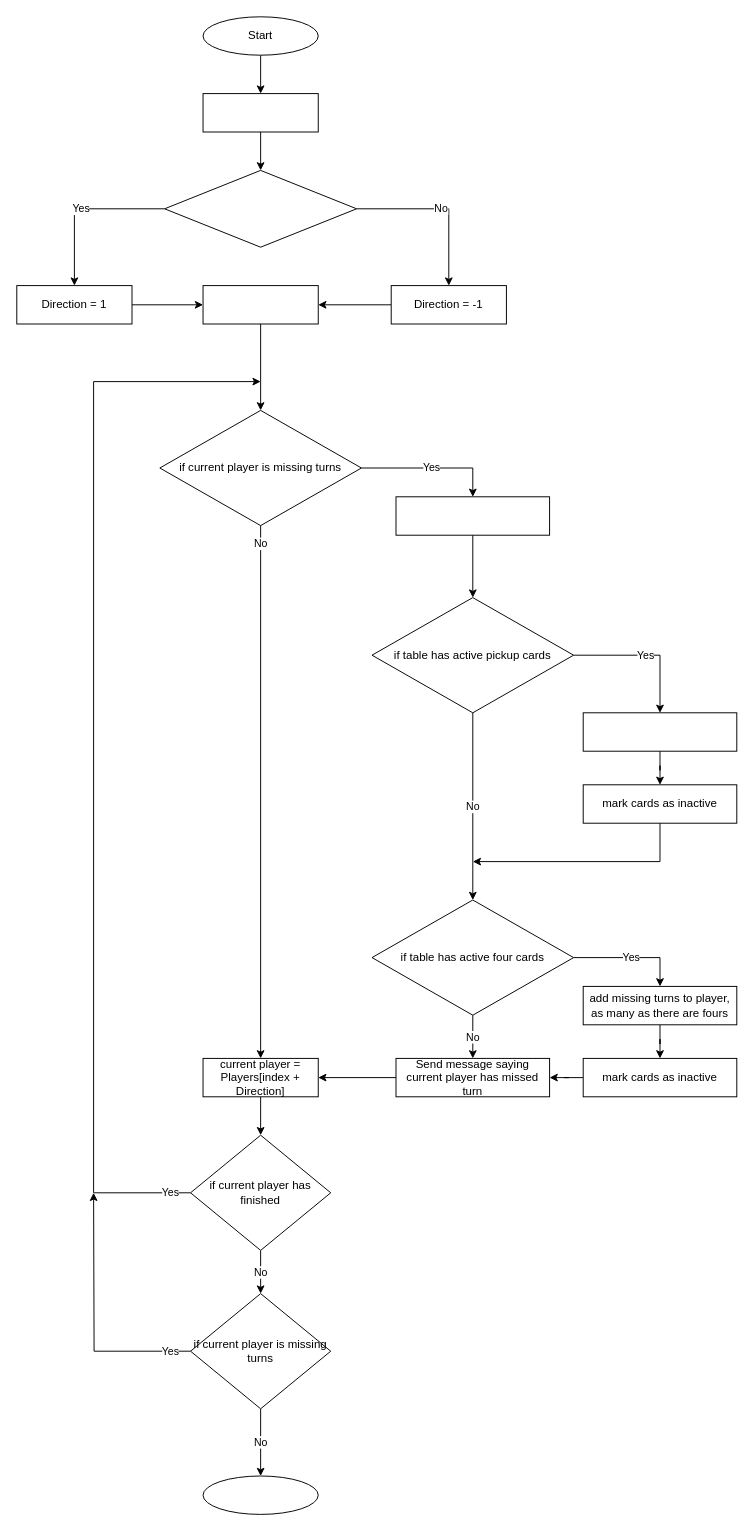
The diagram is 754 pixels wide and 1531 high, and some of its shapes have lost their labels. Here are the shapes that lost their labels. From the top down, the centre of each, then its label:
At (260,112): "kings = number of active kings on table".
At (260,208): "if kings an even number".
At (260,304): "index = index of current player in Players list".
At (472,515): "Deduct one from player's remaining turns to miss".
At (659,731): "draw cards as needed and add to player's hand".
At (260,1494): "End".
